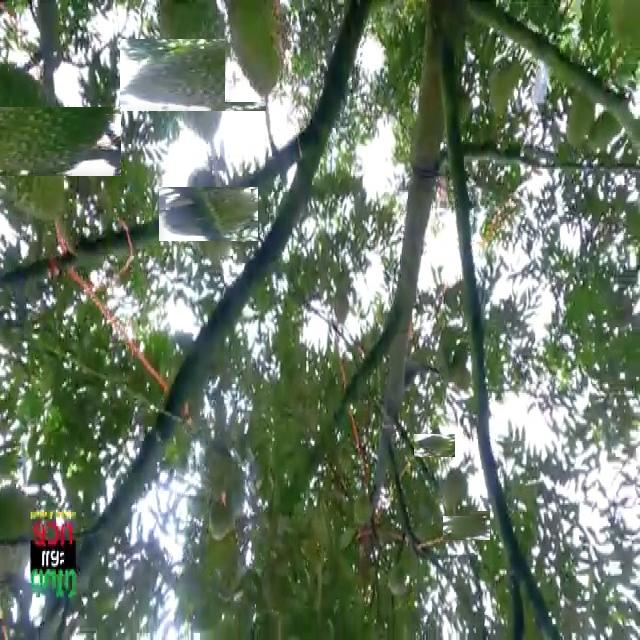durian: (139, 20, 248, 130), (0, 82, 95, 203), (225, 2, 284, 102), (170, 176, 246, 252), (486, 52, 526, 125), (564, 84, 596, 152), (584, 105, 623, 152), (448, 506, 486, 545), (440, 468, 470, 516), (418, 429, 451, 461)
